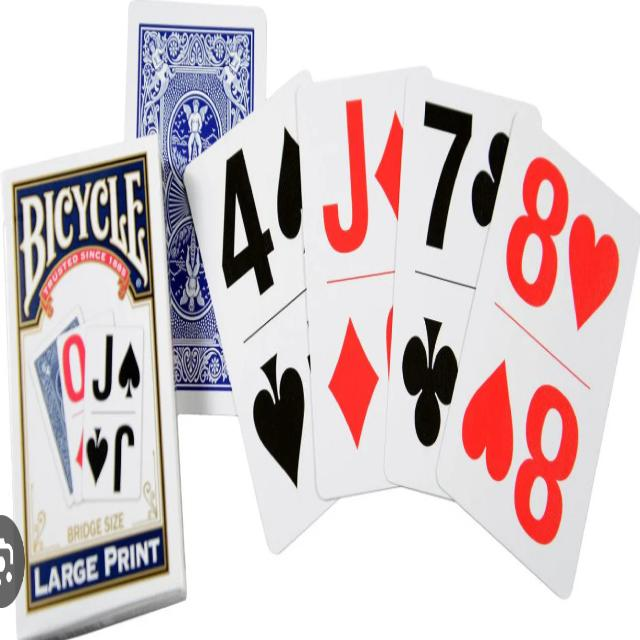Card-4: (184, 70, 333, 552)
Card-7: (387, 75, 538, 497)
Card-8: (436, 112, 637, 596)
Card-J: (299, 68, 428, 491), (81, 327, 143, 496)
Card-Q: (55, 308, 112, 499)
